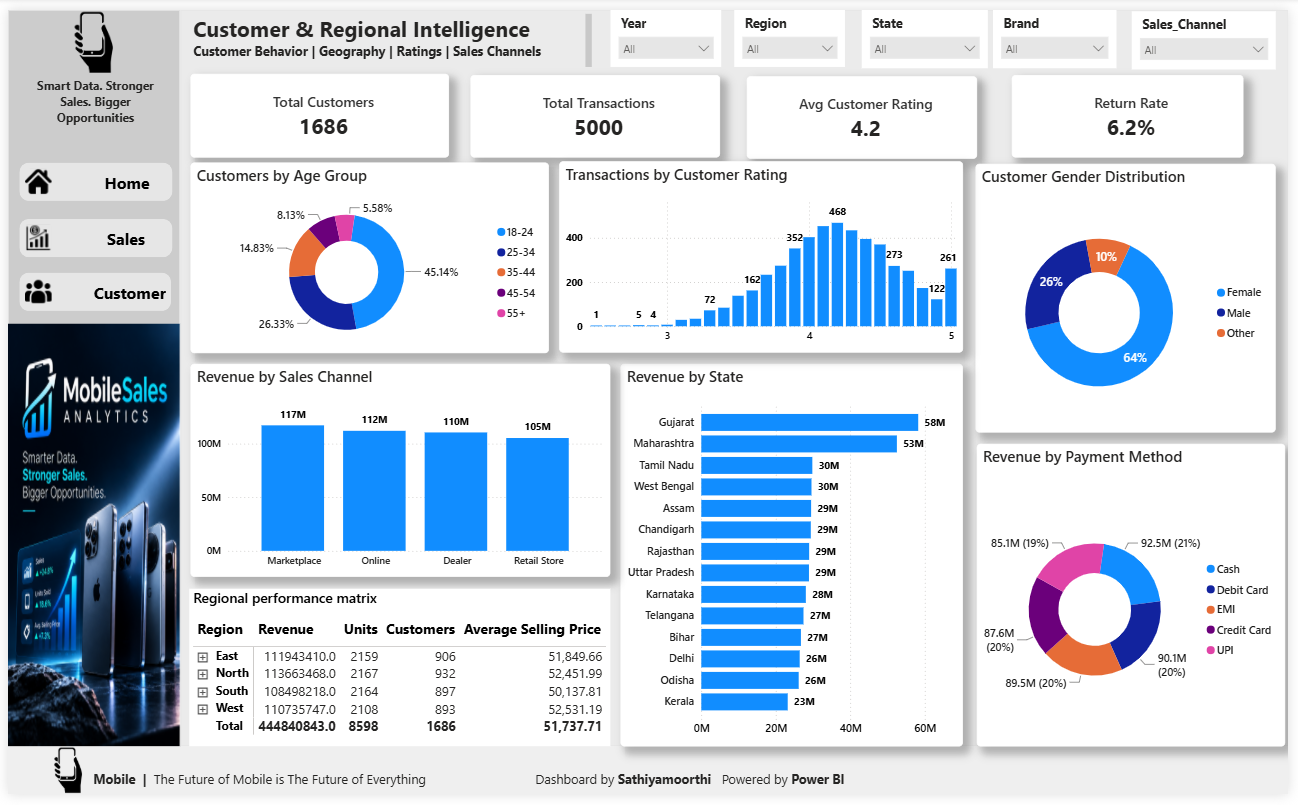

The dashboard page shown, as its layout file describes it:
{"tool":"powerbi","page":{"name":"Customers","canvas":[1600,980],"ordinal":2},"visuals":[{"type":"shape","box":[0,0,215,920],"z":0},{"type":"shape","box":[215,0,1385,920],"z":1000},{"type":"textbox","box":[226.7,0,508.3,80],"z":2000},{"type":"cardVisual","title":"Total Revenue","fields":{"Data":["Measure.Average Customer Rating"]},"box":[923.3,83.3,288.3,103.3],"z":3000},{"type":"cardVisual","title":"Total Revenue","fields":{"Data":["Measure.Total Transactions"]},"box":[578.3,81.7,311.7,103.3],"z":4000},{"type":"cardVisual","title":"Total Revenue","fields":{"Data":["Measure.Total Customers"]},"box":[228.3,80,323.3,105],"z":5000},{"type":"cardVisual","title":"Total Revenue","fields":{"Data":["Measure.Return Rate"]},"box":[1255,81.7,289.8,103.3],"z":6000},{"type":"slicer","fields":{"Values":["DimLocation.Region"]},"box":[908.3,0,138.7,70.9],"z":7000},{"type":"slicer","fields":{"Values":["DimProduct.Brand"]},"box":[1231.7,0,154.2,72.5],"z":8000},{"type":"slicer","fields":{"Values":["FactSales.Sales_Channel"]},"box":[1405,1.7,180.4,72.5],"z":9000},{"type":"image","box":[0,391.7,215,528.3],"z":10000},{"type":"image","box":[53.3,0,108,81],"z":11000},{"type":"slicer","fields":{"Values":["DimLocation.State"]},"box":[1066.7,0,157.2,72.5],"z":12000},{"type":"actionButton","box":[13.3,190,191.7,48.3],"z":13000},{"type":"actionButton","box":[13.3,261.7,191.7,48.3],"z":14000},{"type":"actionButton","box":[13.3,328.3,190,48.3],"z":15000},{"type":"image","box":[48.3,920,53.3,60],"z":16000},{"type":"textbox","box":[101.7,945,1498.3,35],"z":17000},{"type":"slicer","fields":{"Values":["DimDate.Year"]},"box":[753.3,0,138.7,70.9],"z":18000},{"type":"donutChart","title":"Customers by Age Group","fields":{"Category":["DimCustomer.Age_Group"],"Y":["Measure.Total Customers"]},"box":[228.3,190,448.3,238.3],"z":19000},{"type":"donutChart","title":"Customer Gender Distribution","fields":{"Category":["DimCustomer.Gender"],"Y":["Measure.Total Customers"]},"box":[1209.4,192.2,375,335.9],"z":20000},{"type":"clusteredBarChart","title":"Revenue by State","fields":{"Y":["Measure.Total Revenue"],"Category":["DimLocation.State"]},"box":[765.6,442.2,428.1,478.1],"z":21000},{"type":"clusteredColumnChart","title":"Transactions by Customer Rating","fields":{"Category":["FactSales.Customer_Rating"],"Y":["Measure.Total Transactions"]},"box":[689.1,189.1,504.7,239.1],"z":22000},{"type":"clusteredColumnChart","title":"Revenue by Sales Channel","fields":{"Y":["Measure.Total Revenue"],"Category":["FactSales.Sales_Channel"]},"box":[228.3,441.7,525,266.7],"z":23000},{"type":"donutChart","title":"Revenue by Payment Method","fields":{"Category":["FactSales.Payment_Method"],"Y":["Measure.Total Revenue"]},"box":[1210.9,542.2,389.1,378.1],"z":24000},{"type":"pivotTable","title":"Regional performance matrix","fields":{"Rows":["DimLocation.Region","DimLocation.State"],"Values":["Measure.Total Revenue","Measure.Total Units Sold","Measure.Total Customers","Measure.Average Selling Price"]},"box":[226.7,723.3,526.7,196.7],"z":25000},{"type":"textbox","box":[11.7,80,196.7,76.7],"z":26000}]}

Visuals, with their boxes in screenshot pixels (x1, y1, x2, y2), scaled from the page's 1600x980 canvas onto the 1298x805 screenshot:
shape: bbox(0, 0, 174, 756)
shape: bbox(174, 0, 1297, 756)
textbox: bbox(184, 0, 596, 66)
"Total Revenue" cardVisual: bbox(749, 68, 983, 153)
"Total Revenue" cardVisual: bbox(469, 67, 722, 152)
"Total Revenue" cardVisual: bbox(185, 66, 447, 152)
"Total Revenue" cardVisual: bbox(1018, 67, 1253, 152)
slicer - DimLocation.Region: bbox(737, 0, 849, 58)
slicer - DimProduct.Brand: bbox(999, 0, 1124, 60)
slicer - FactSales.Sales_Channel: bbox(1140, 1, 1286, 61)
image: bbox(0, 322, 174, 756)
image: bbox(43, 0, 131, 67)
slicer - DimLocation.State: bbox(865, 0, 993, 60)
actionButton: bbox(11, 156, 166, 196)
actionButton: bbox(11, 215, 166, 255)
actionButton: bbox(11, 270, 165, 309)
image: bbox(39, 756, 82, 804)
textbox: bbox(83, 776, 1297, 804)
slicer - DimDate.Year: bbox(611, 0, 724, 58)
"Customers by Age Group" donutChart: bbox(185, 156, 549, 352)
"Customer Gender Distribution" donutChart: bbox(981, 158, 1285, 434)
"Revenue by State" clusteredBarChart: bbox(621, 363, 968, 756)
"Transactions by Customer Rating" clusteredColumnChart: bbox(559, 155, 968, 352)
"Revenue by Sales Channel" clusteredColumnChart: bbox(185, 363, 611, 582)
"Revenue by Payment Method" donutChart: bbox(982, 445, 1297, 756)
"Regional performance matrix" pivotTable: bbox(184, 594, 611, 756)
textbox: bbox(9, 66, 169, 129)
